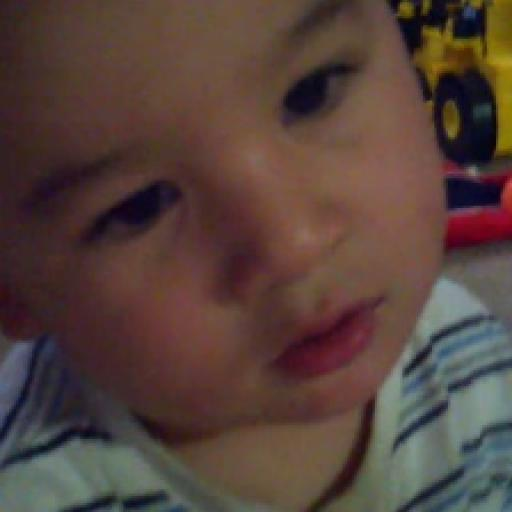Autism: (13, 18, 512, 475)
